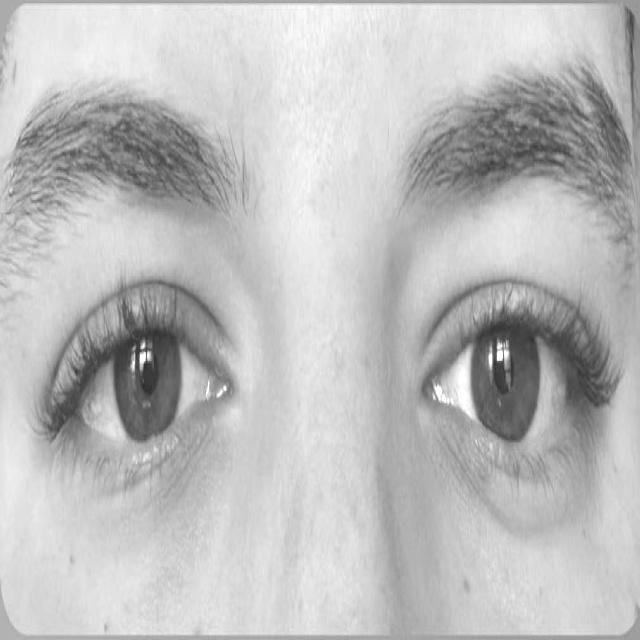real: (24, 139, 626, 549)
